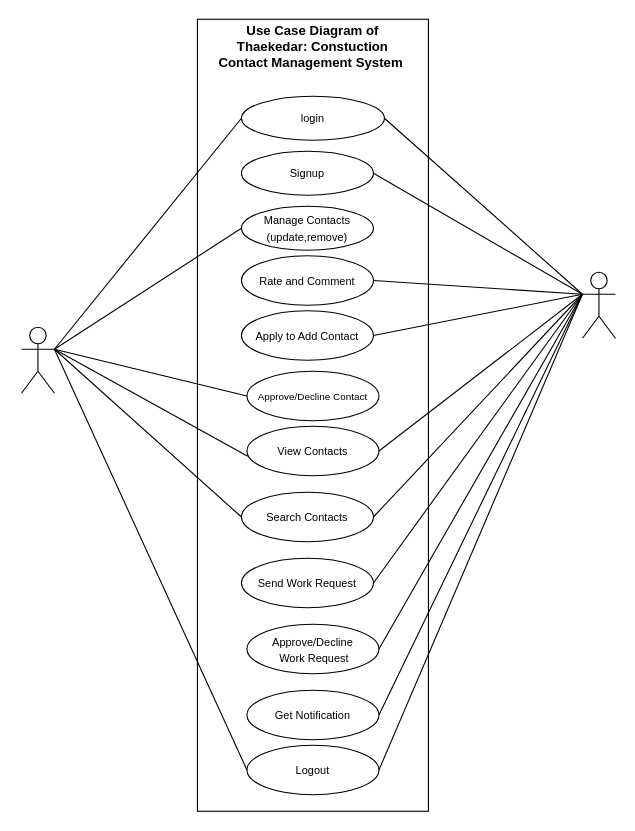
Image size: 635x831. Some labels were removed from this diagram. The shapes that lost their labels are listed below. From the top down, each one's box as (x1, y1, x2, y2) in pixels, then its label:
(581, 271, 615, 338): User
(20, 326, 54, 393): Admin
